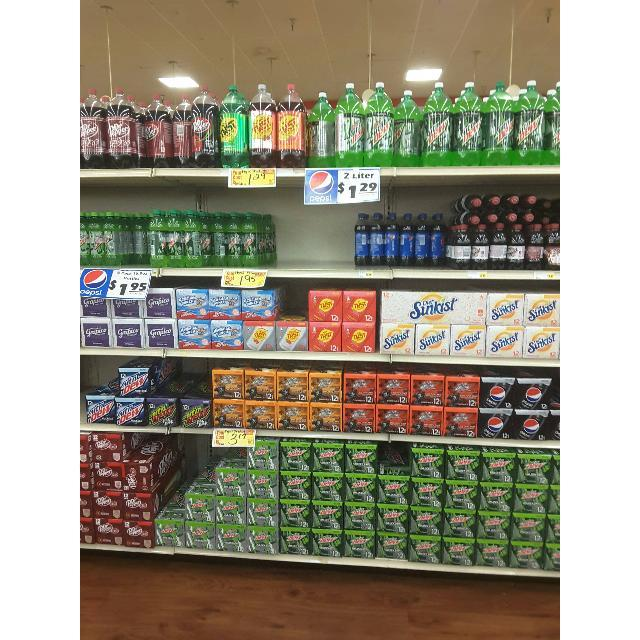empty: (276, 205, 356, 269)
